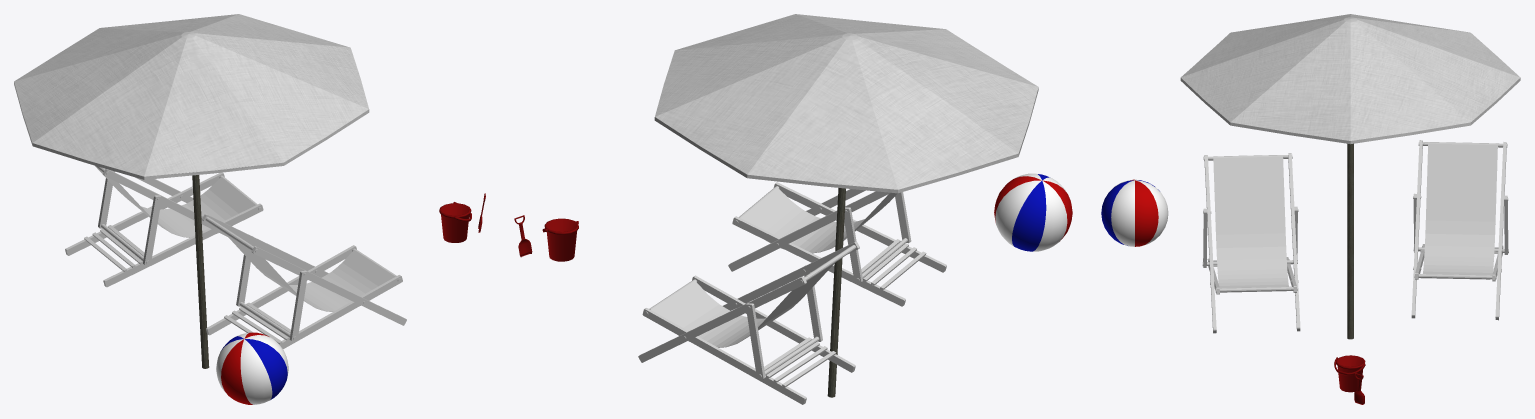
The model's file is ExportedBlenderFBXFile.fbx.
The picture shows the model from 3 angles, left to right: view 1: azimuth 30°, elevation 25°; view 2: azimuth 150°, elevation 25°; view 3: azimuth 270°, elevation 25°; orthographic projection. The views are drawn at different scales.
Parts seen in each view (by area): view 1: Cylinder, Cube_001, Cube_002, Sphere, Cylinder_001; view 2: Cylinder, Cube_002, Cube_001, Sphere, Cylinder_001; view 3: Cylinder, Cube_001, Cube_002, Sphere, Cylinder_001.
Part boxes in pixels (x1,y1,x2,y2): Cylinder: (14, 14, 369, 368); Cube_001: (202, 214, 406, 349); Cube_002: (65, 165, 263, 287); Sphere: (216, 332, 288, 404); Cylinder_001: (439, 193, 485, 242); Cylinder: (654, 14, 1038, 397); Cube_002: (638, 241, 859, 404); Cube_001: (728, 182, 946, 306); Sphere: (994, 173, 1072, 251); Cylinder_001: (514, 215, 578, 261); Cylinder: (1180, 14, 1520, 339); Cube_001: (1202, 153, 1300, 333); Cube_002: (1411, 140, 1508, 320); Sphere: (1101, 179, 1168, 246); Cylinder_001: (1334, 355, 1365, 404).
Size of the model in its own units: 14.61 by 10.25 by 12.49.
